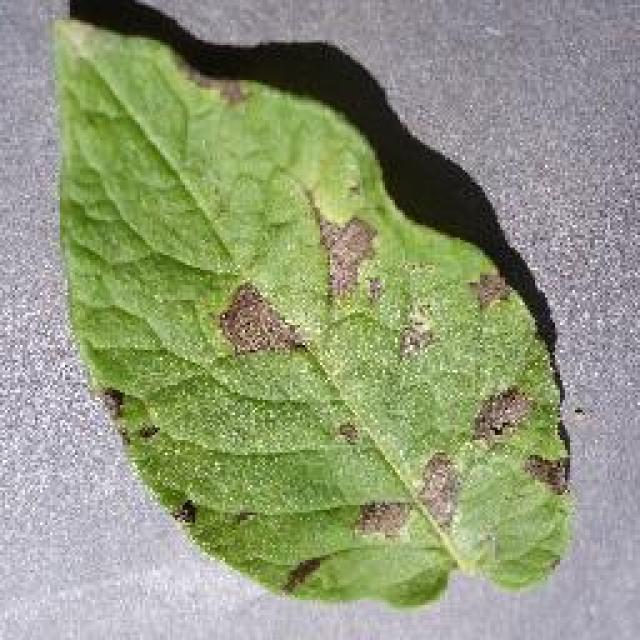early_blight: (48, 5, 578, 610)
